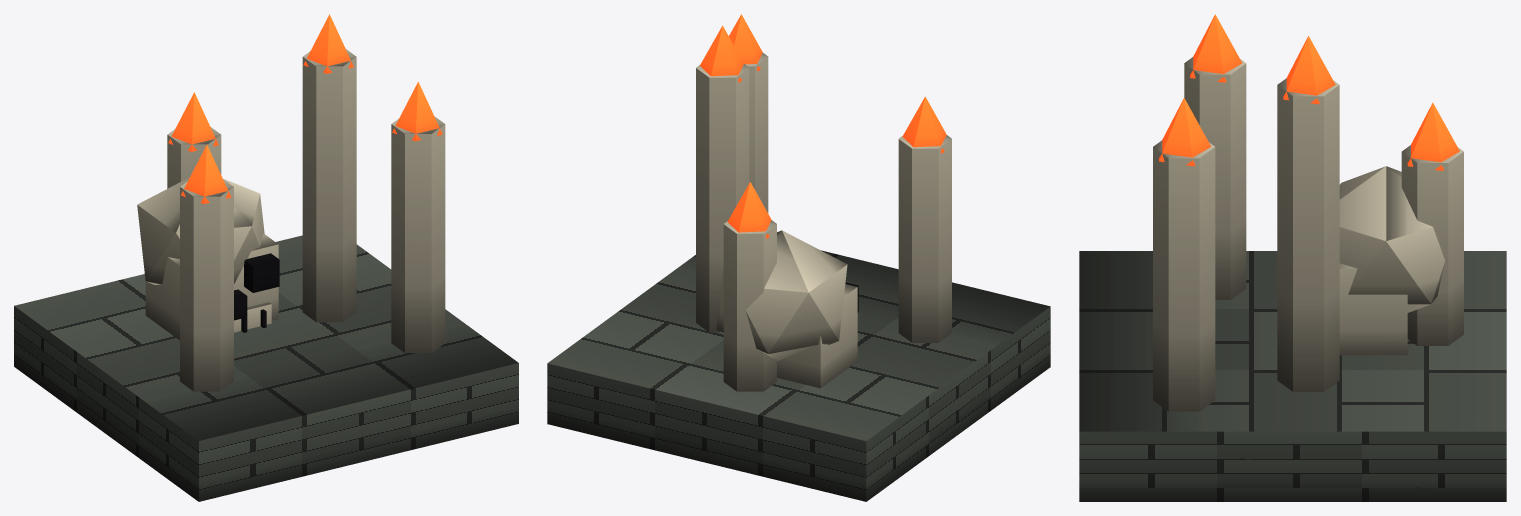
Rendered from candle_shrine.glb.
3 views of the same model, side by side, from view 1: azimuth 30°, elevation 25°; view 2: azimuth 150°, elevation 25°; view 3: azimuth 270°, elevation 25° (orthographic). The views are drawn at different scales.
Visible parts, largest first — view 1: candle_shrine; view 2: candle_shrine; view 3: candle_shrine.
Part boxes in pixels (x1,y1,x2,y2): candle_shrine: (14, 14, 518, 501); candle_shrine: (547, 14, 1050, 501); candle_shrine: (1079, 14, 1506, 501).
Size of the model in its own units: 0.55 by 0.59 by 0.55.
1 material, 1 textured.
